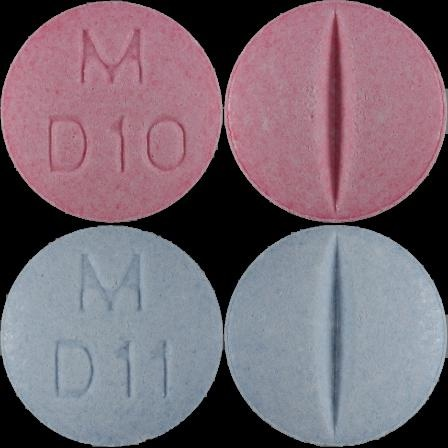43353-647: (0, 0, 224, 224)
